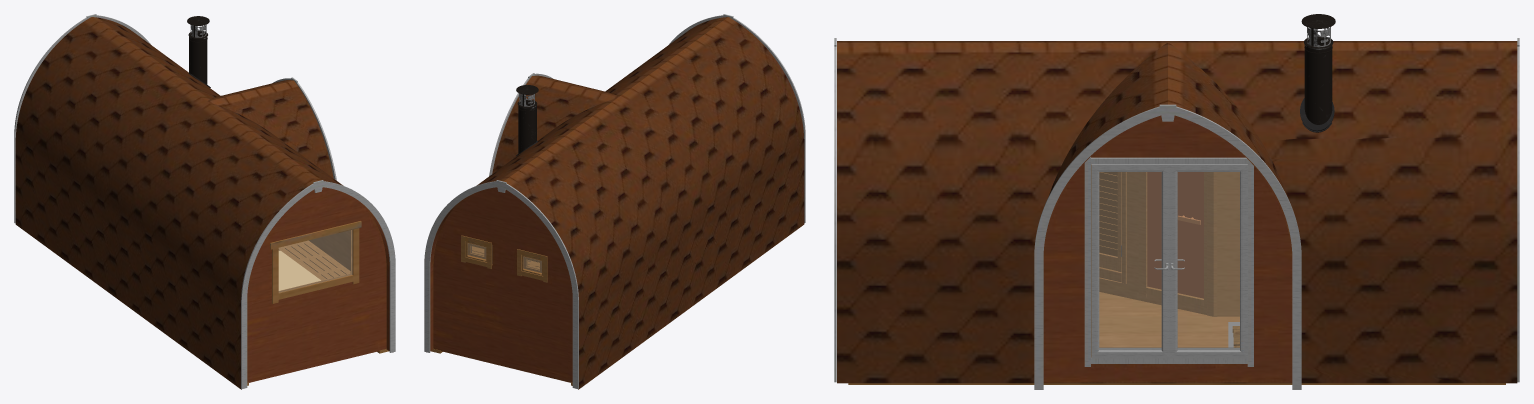
3 renders of one model, left to right at view 1: azimuth 30°, elevation 25°; view 2: azimuth 150°, elevation 25°; view 3: azimuth 270°, elevation 25°, orthographic. The views are drawn at different scales.
Visible parts, largest first — view 1: banya_new_ready, Box 1; view 2: banya_new_ready, Box 2; view 3: banya_new_ready, Box.
Boxes of the visible parts, left/top/right/bottom form: banya_new_ready: left=14, top=14, right=395, bottom=389; Box 1: left=279, top=230, right=352, bottom=292; banya_new_ready: left=424, top=14, right=805, bottom=389; Box 2: left=468, top=243, right=541, bottom=272; banya_new_ready: left=834, top=14, right=1519, bottom=389; Box: left=1099, top=172, right=1239, bottom=349.
Bounding box in the file's own units: 2 × 2.62 × 4.8.
Materials: 6 (3 with a texture image).
